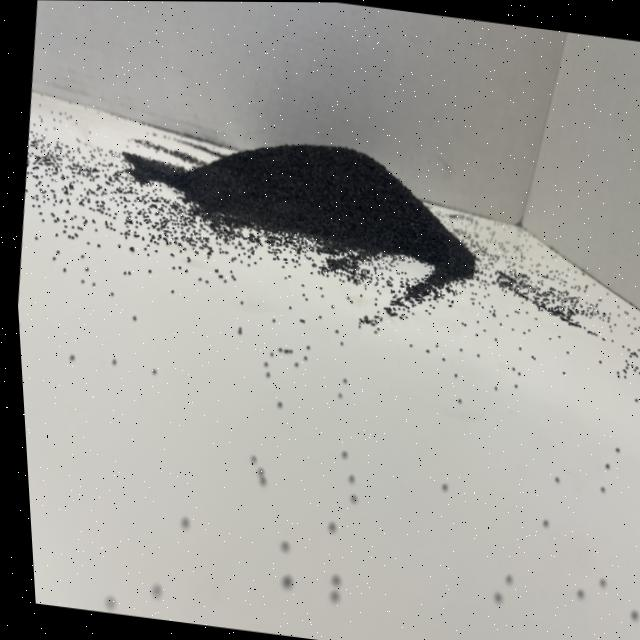Poppy Seeds: (111, 67, 516, 335)
